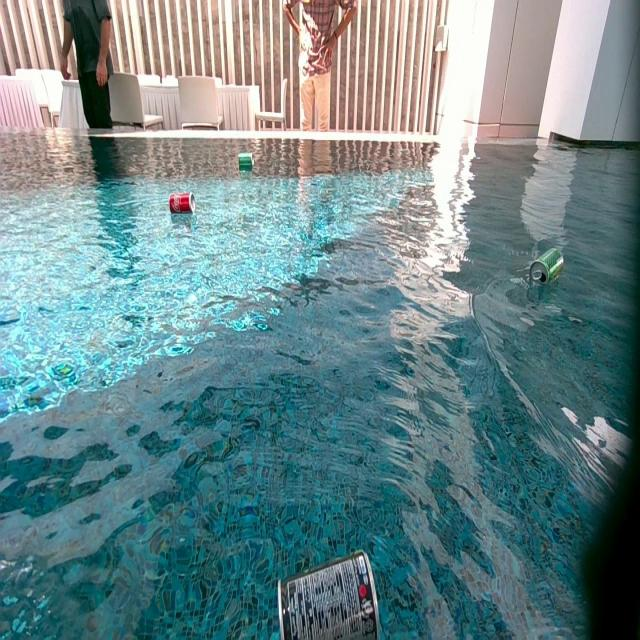Cans: (279, 550, 389, 636), (531, 249, 565, 289), (170, 194, 196, 215), (239, 154, 254, 172)
